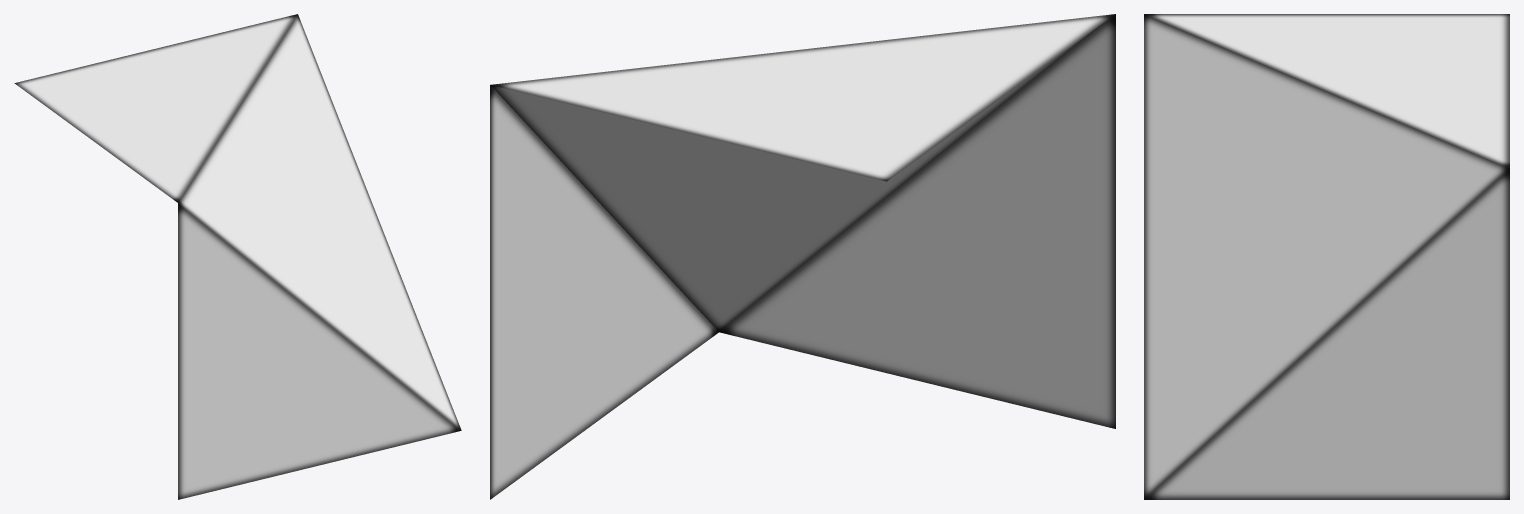
File: corner_3-slope_outside_3-side.fbx
The picture shows the model from 3 angles, left to right: view 1: azimuth 30°, elevation 25°; view 2: azimuth 150°, elevation 25°; view 3: azimuth 270°, elevation 25°; orthographic projection. The views are drawn at different scales.
Parts seen in each view (by area): view 1: corner_3-slope_outside_3-side; view 2: corner_3-slope_outside_3-side; view 3: corner_3-slope_outside_3-side.
Part boxes in pixels (x1,y1,x2,y2): corner_3-slope_outside_3-side: (14, 14, 461, 499); corner_3-slope_outside_3-side: (490, 14, 1115, 499); corner_3-slope_outside_3-side: (1144, 14, 1509, 499).
Size of the model in its own units: 100 by 100 by 100.
